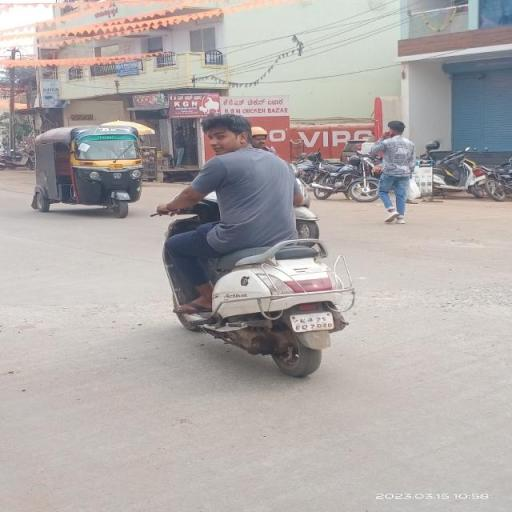bike: (148, 111, 350, 382)
numberplate: (290, 312, 338, 331)
withouthelmet: (205, 118, 252, 154)
